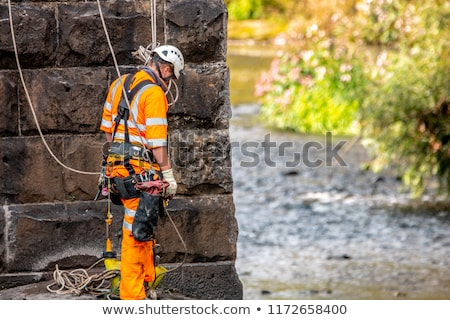Hard Hat: (154, 42, 183, 78)
High Viz: (110, 73, 164, 151)
